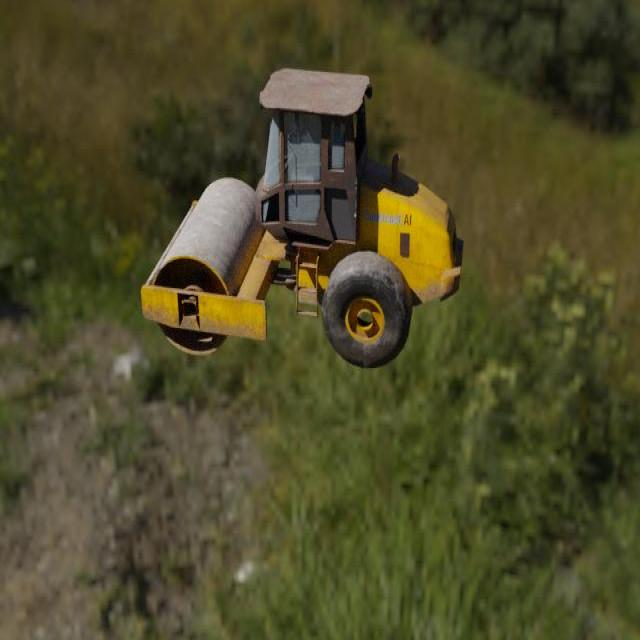Roller: (140, 68, 464, 368)
